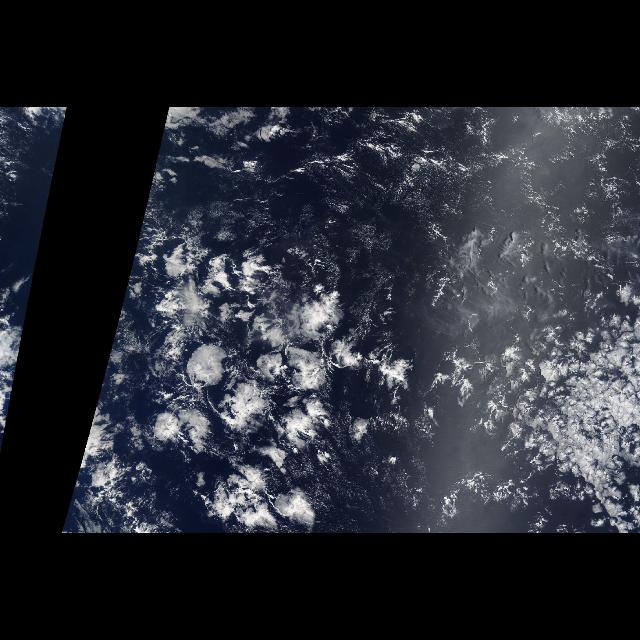Flower: (123, 245, 410, 533)
Gravel: (254, 114, 634, 240)
